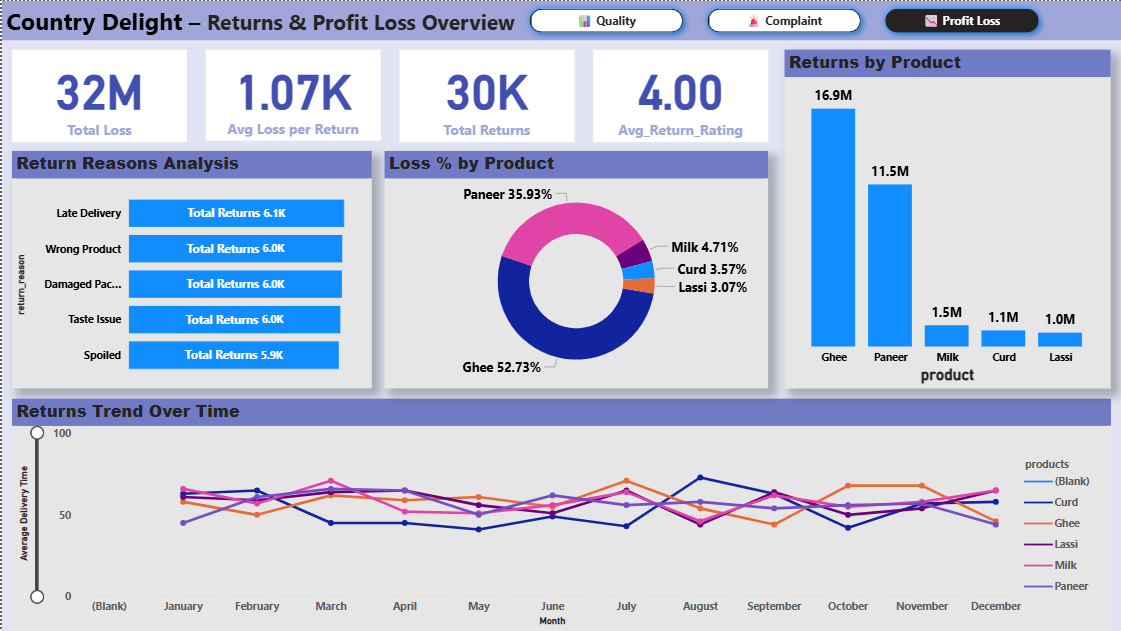

Layout of this report page (visuals, bound fields, positions):
{"tool":"powerbi","page":{"name":"📉 Profit Loss","canvas":[1280,720],"ordinal":2},"visuals":[{"type":"textbox","box":[0,0,1280,45],"z":0},{"type":"card","fields":{"Values":["All Measures.Total Returns"]},"box":[454.3,55.7,200,105.7],"z":1000},{"type":"barChart","title":"Return Reasons Analysis","fields":{"Category":["returns_data.return_reason"],"Y":["All Measures.Total Returns"]},"box":[11.4,171.4,411.4,271.4],"z":2000},{"type":"lineChart","title":"Returns Trend Over Time","fields":{"Series":["quality_data.product"],"Y":["All Measures.Total Returns"],"Category":["quality_data.date.Variation.Date Hierarchy.Month"]},"box":[11.4,454.3,1255.7,265.7],"z":3000},{"type":"card","fields":{"Values":["All Measures.Avg_Return_Rating"]},"box":[675.7,55.7,200,105.7],"z":5000},{"type":"pageNavigator","box":[593.8,0,600,45],"z":6000},{"type":"card","fields":{"Values":["returns_data.Total Profit Loss"]},"box":[11.4,55.7,200,105.7],"z":7000},{"type":"card","fields":{"Values":["returns_data.Avg Profit Loss Per Return"]},"box":[232.9,55.7,200,104.3],"z":8000},{"type":"columnChart","title":"Returns by Product","fields":{"Category":["returns_data.product"],"Y":["All Measures.Total Loss by Product"]},"box":[894.3,55.7,372.9,387.1],"z":9000},{"type":"donutChart","title":"Loss % by Product","fields":{"Category":["returns_data (2).product"],"Y":["All Measures.Loss Percentage by Product"]},"box":[437.1,171.4,438.6,271.4],"z":10000}]}

Visuals, with their boxes in screenshot pixels (x1, y1, x2, y2), scaled from the page's 1280x720 canvas onto the 1121x631 screenshot:
textbox: [left=0, top=0, right=1120, bottom=39]
card - All Measures.Total Returns: [left=398, top=49, right=573, bottom=141]
"Return Reasons Analysis" barChart: [left=10, top=150, right=370, bottom=388]
"Returns Trend Over Time" lineChart: [left=10, top=398, right=1110, bottom=630]
card - All Measures.Avg_Return_Rating: [left=592, top=49, right=767, bottom=141]
pageNavigator: [left=520, top=0, right=1046, bottom=39]
card - returns_data.Total Profit Loss: [left=10, top=49, right=185, bottom=141]
card - returns_data.Avg Profit Loss Per Return: [left=204, top=49, right=379, bottom=140]
"Returns by Product" columnChart: [left=783, top=49, right=1110, bottom=388]
"Loss % by Product" donutChart: [left=383, top=150, right=767, bottom=388]
